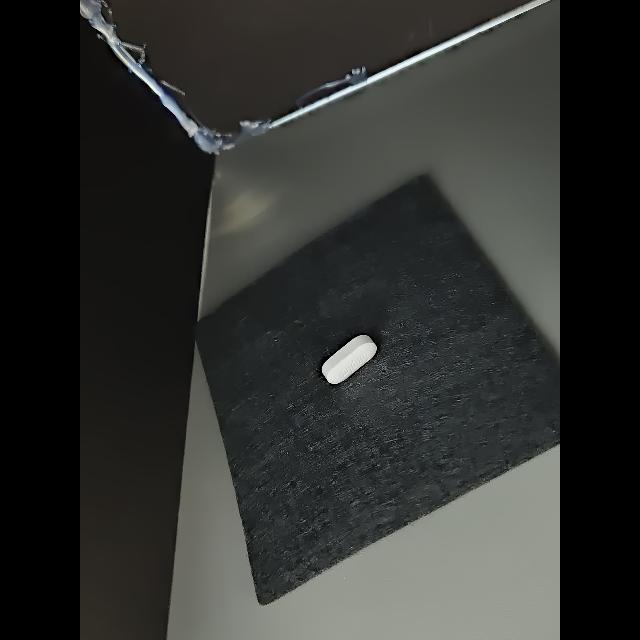Intact Pill: (322, 335, 377, 384)
